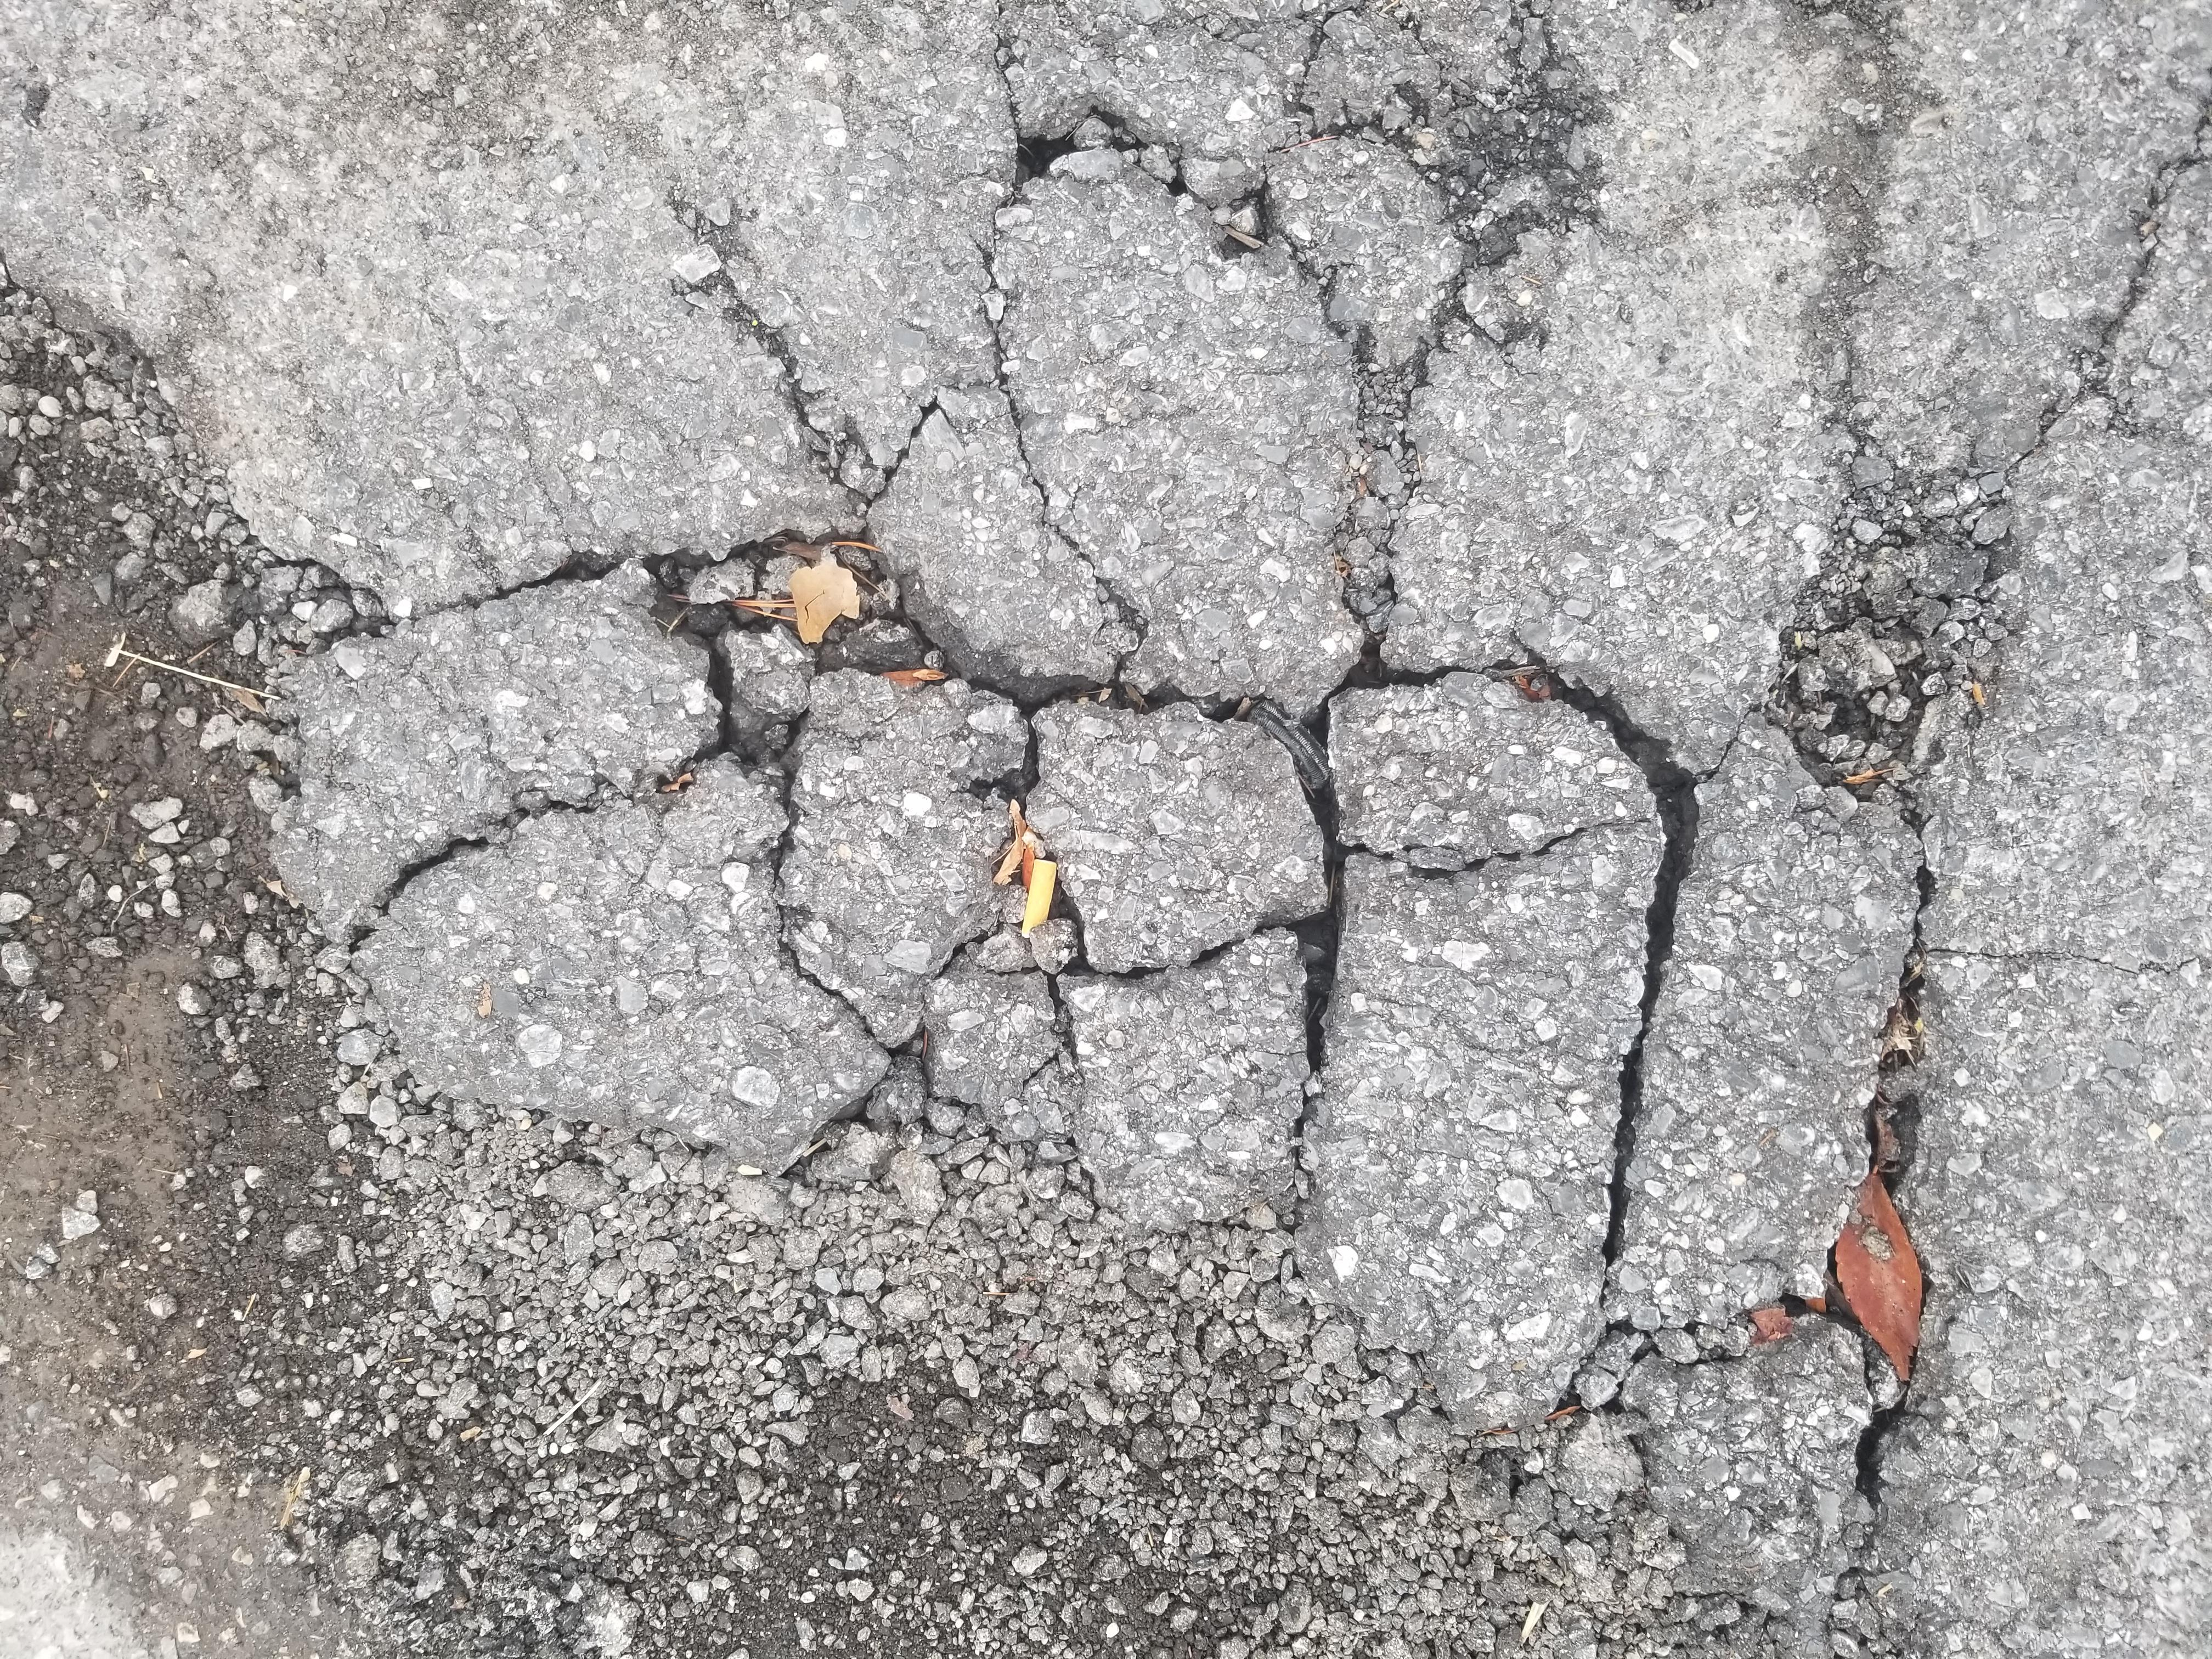alligator-crack: (681, 408, 1975, 1366)
